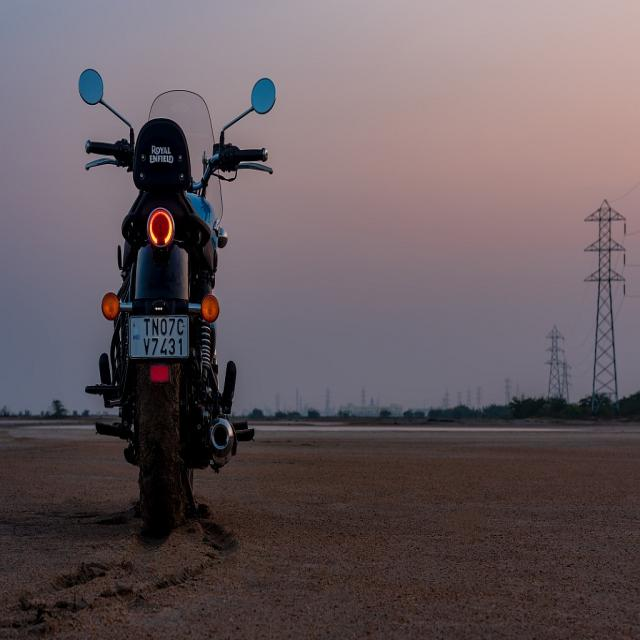license_plate: (127, 311, 190, 361)
